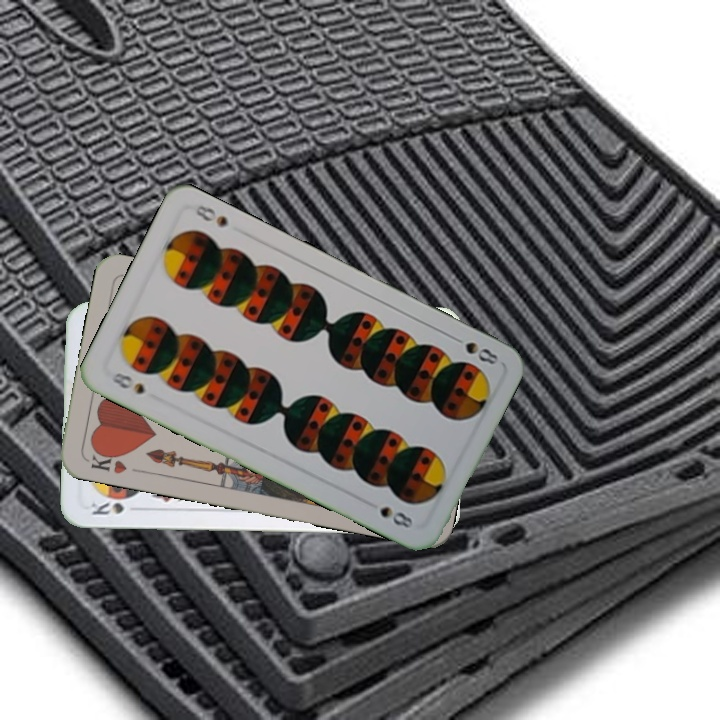HK: (83, 445, 130, 477)
S8: (446, 331, 503, 368), (107, 368, 147, 397)
SK: (87, 498, 127, 518)
